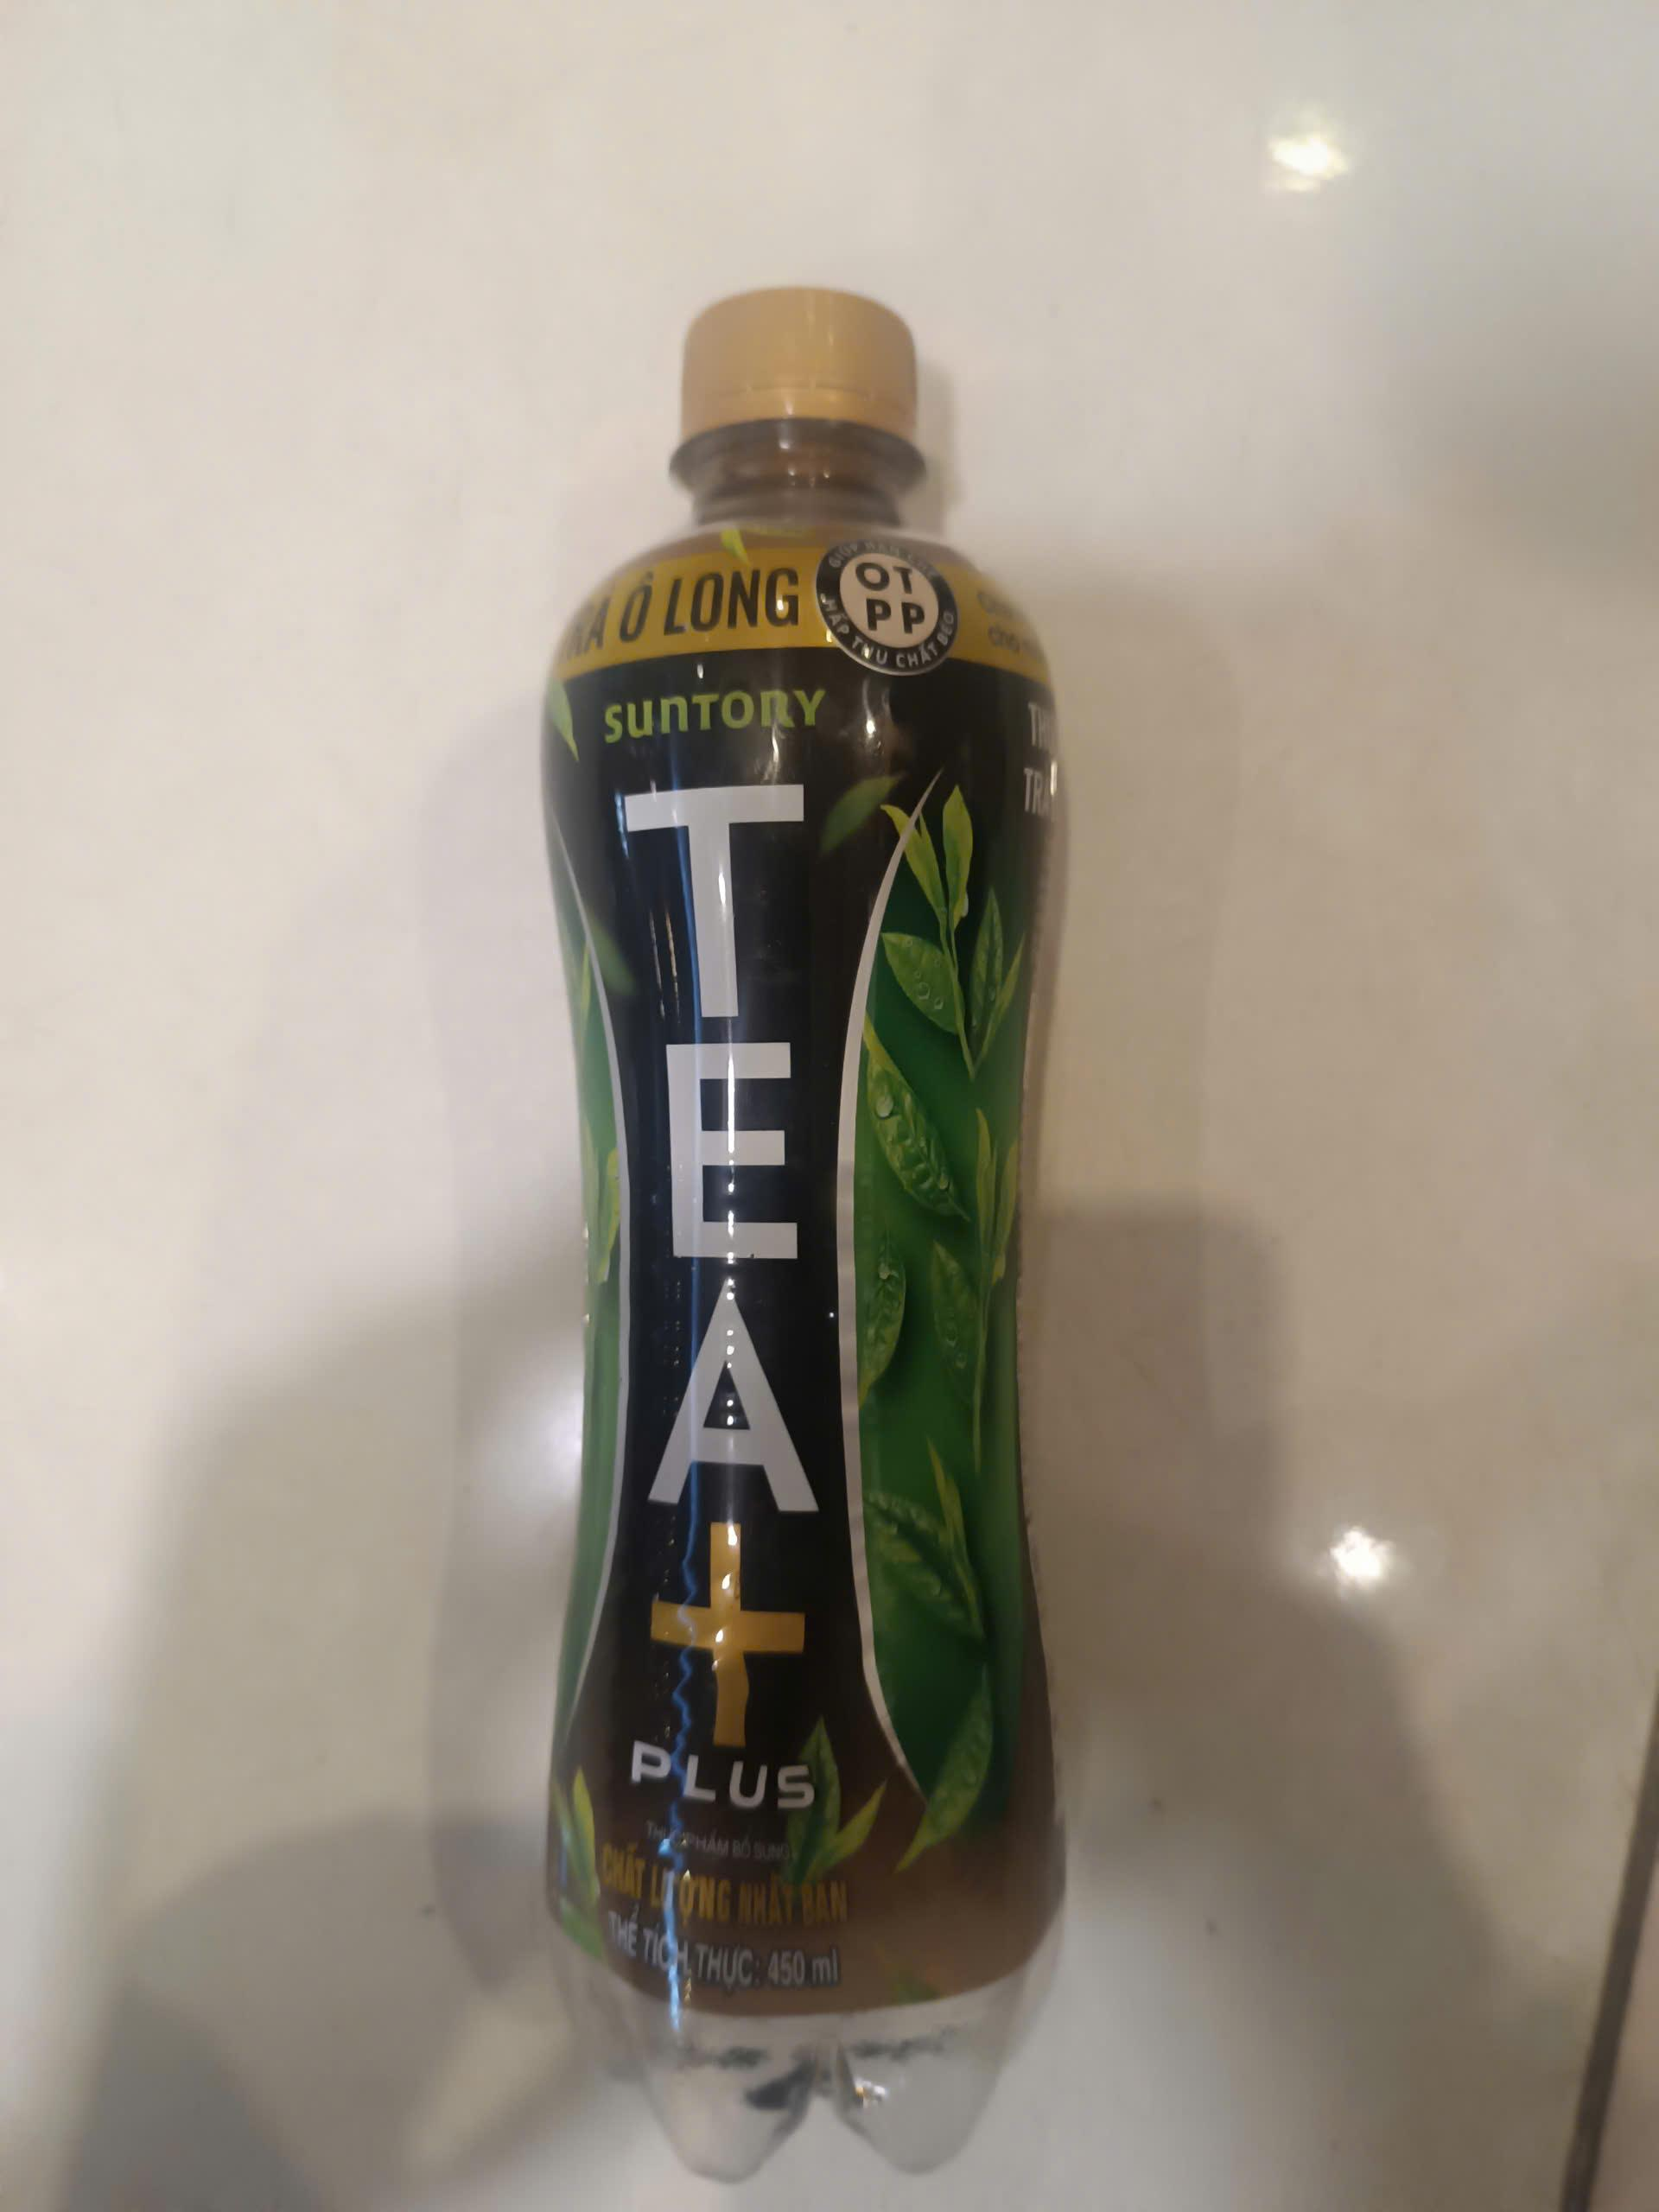Vo co: (532, 282, 1058, 2179)
